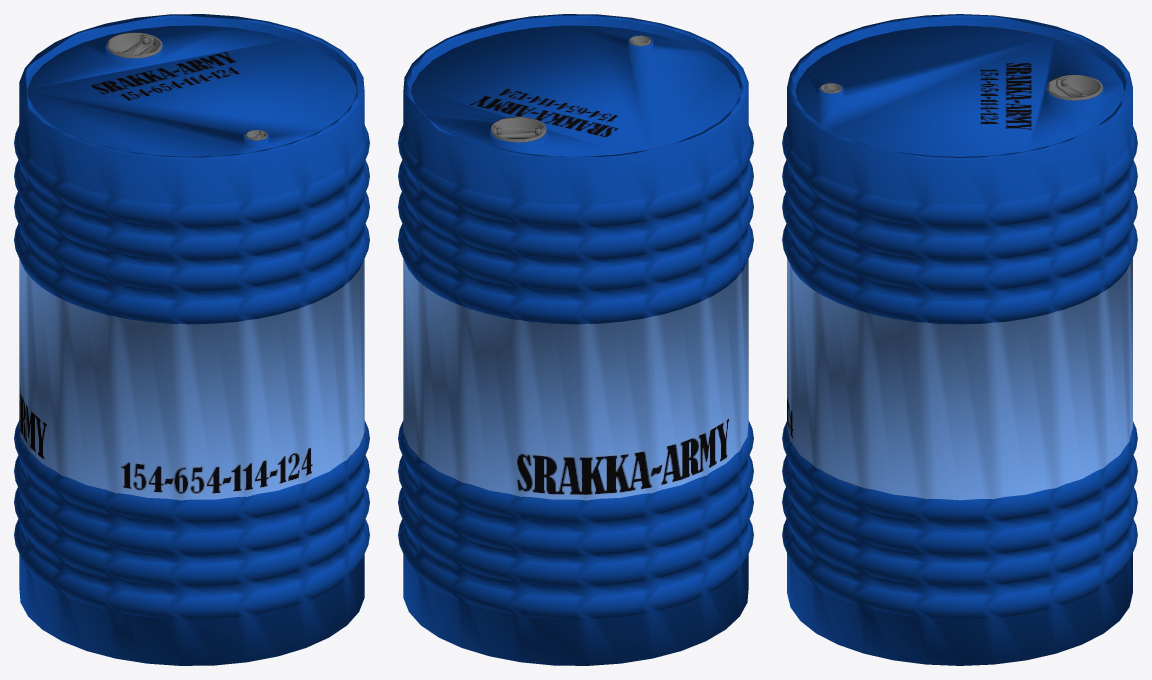
The model's file is tonneau01.fbx.
3 views of the same model, side by side, from view 1: azimuth 30°, elevation 25°; view 2: azimuth 150°, elevation 25°; view 3: azimuth 270°, elevation 25° (orthographic).
Parts seen in each view (by area): view 1: Tonneau, Top; view 2: Tonneau, Top; view 3: Tonneau, Top.
Part boxes in pixels (x1,y1,x2,y2): Tonneau: (14, 14, 369, 665); Top: (27, 25, 356, 156); Tonneau: (398, 14, 753, 665); Top: (411, 25, 740, 156); Tonneau: (782, 14, 1137, 665); Top: (795, 25, 1124, 156).
Bounding box in the file's own units: 83.67 × 131 × 83.67.
